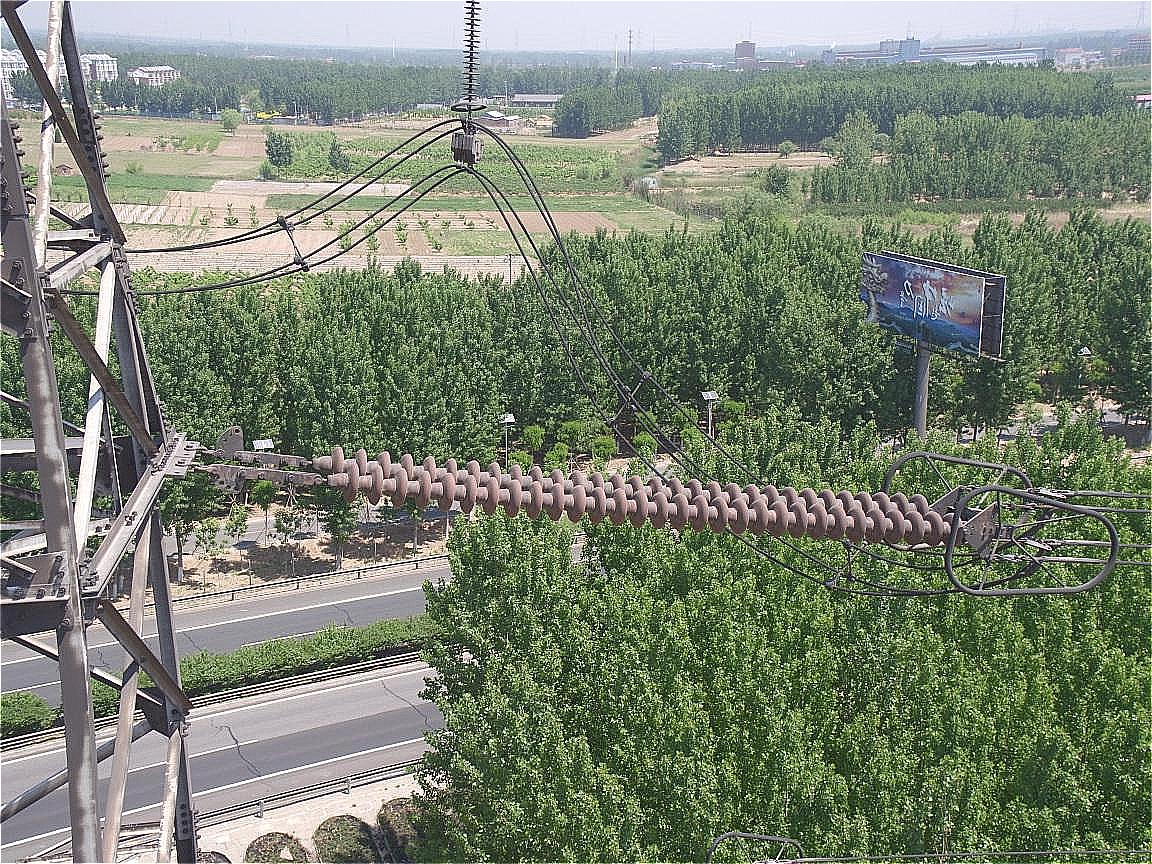insultor1: (298, 431, 974, 563), (457, 1, 489, 111)
